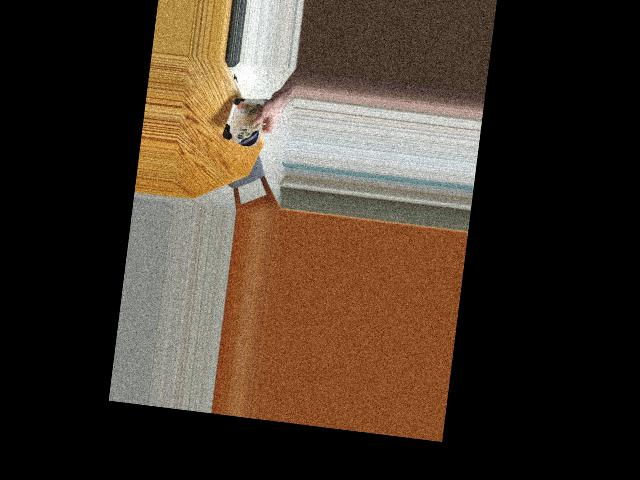cheese: (225, 88, 267, 150)
